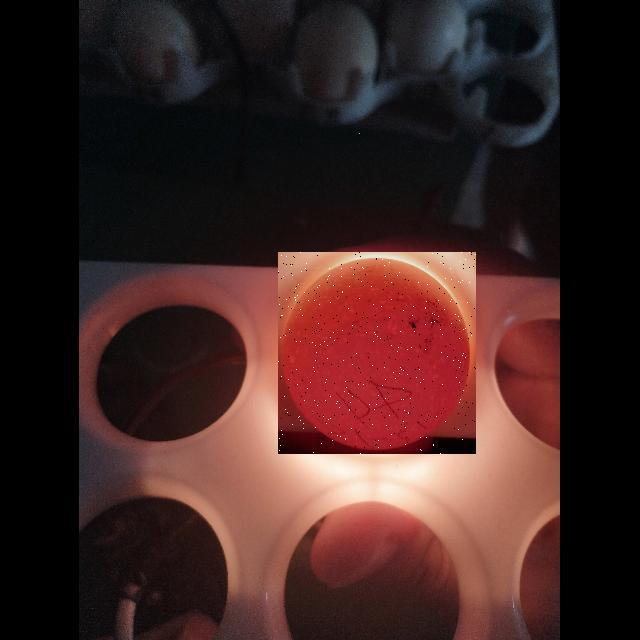Infertile: (278, 252, 476, 454)
